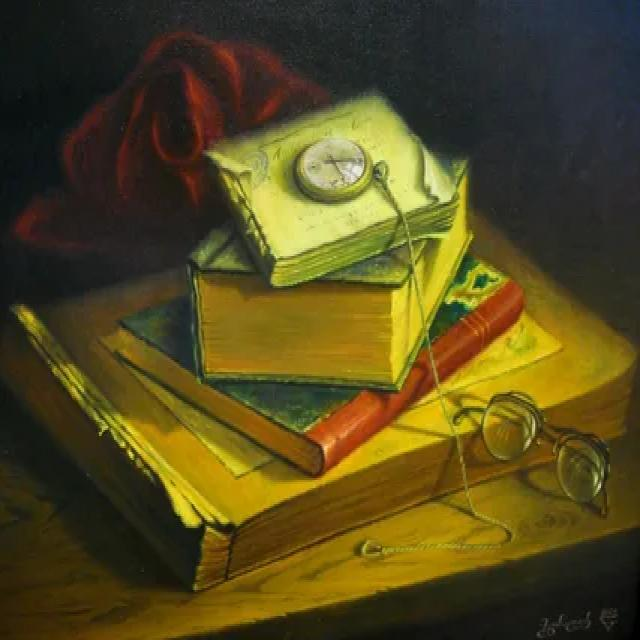book: (198, 71, 467, 291)
